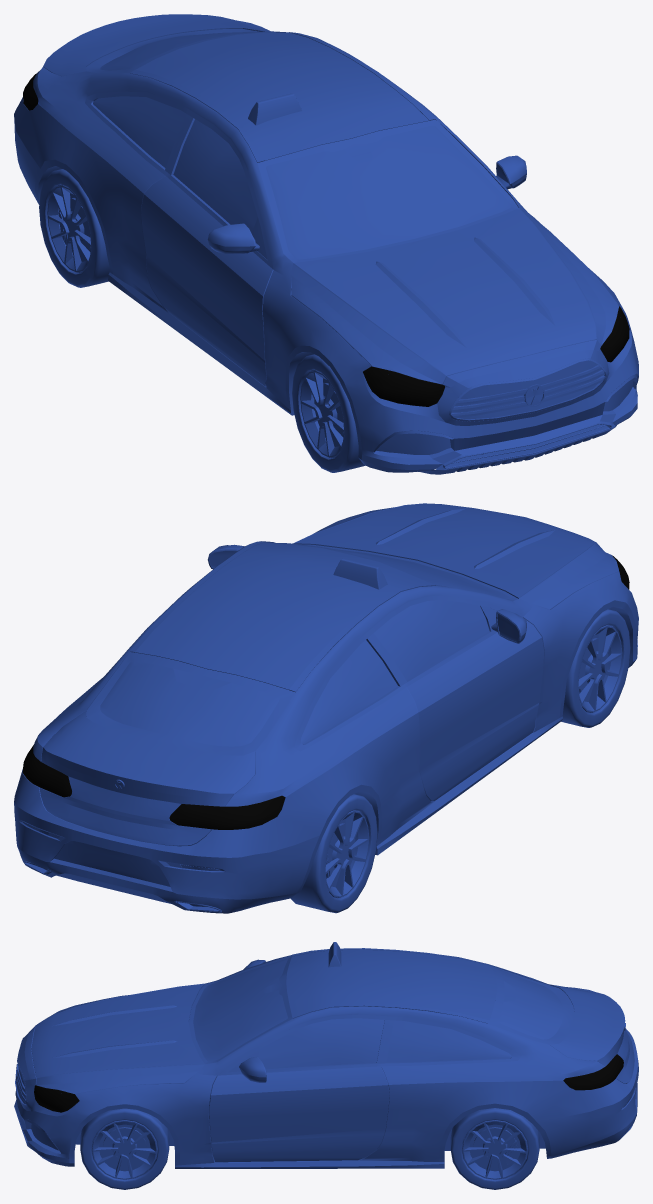
The model's file is Taxi3Hukuk.fbx.
3 renders of one model, top to bottom at view 1: azimuth 30°, elevation 25°; view 2: azimuth 150°, elevation 25°; view 3: azimuth 270°, elevation 25°, orthographic. The views are drawn at different scales.
Parts seen in each view (by area): view 1: polySurface21qe, arkateker21qe, onteker21qe; view 2: polySurface21qe, arkateker21qe, onteker21qe; view 3: polySurface21qe, arkateker11qe, onteker11qe.
Part boxes in pixels (left/top/right/bottom): polySurface21qe: left=14, top=14, right=638, bottom=474; arkateker21qe: left=39, top=169, right=109, bottom=287; onteker21qe: left=292, top=354, right=365, bottom=472; polySurface21qe: left=14, top=503, right=638, bottom=913; arkateker21qe: left=290, top=794, right=377, bottom=913; onteker21qe: left=561, top=609, right=630, bottom=727; polySurface21qe: left=14, top=942, right=638, bottom=1168; arkateker11qe: left=450, top=1108, right=539, bottom=1189; onteker11qe: left=80, top=1108, right=169, bottom=1189.
Bounding box in the file's own units: 165 × 122 × 389.
